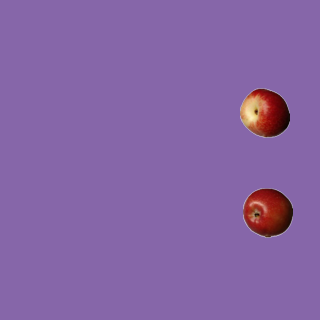Apple Braeburn: (242, 187, 292, 237)
Nectarine: (239, 87, 289, 137)
